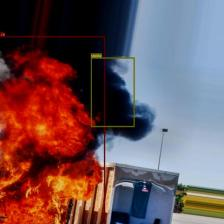fire: (0, 35, 105, 224)
smoke: (91, 57, 134, 127)
